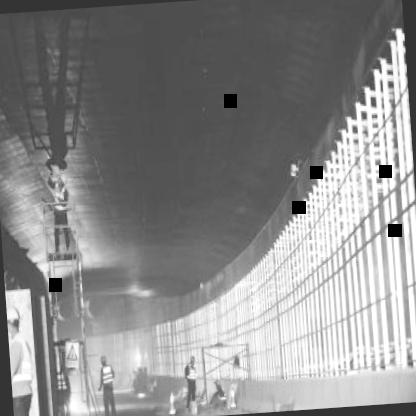helmet: (6, 298, 24, 336), (56, 172, 70, 186), (98, 354, 110, 368)
